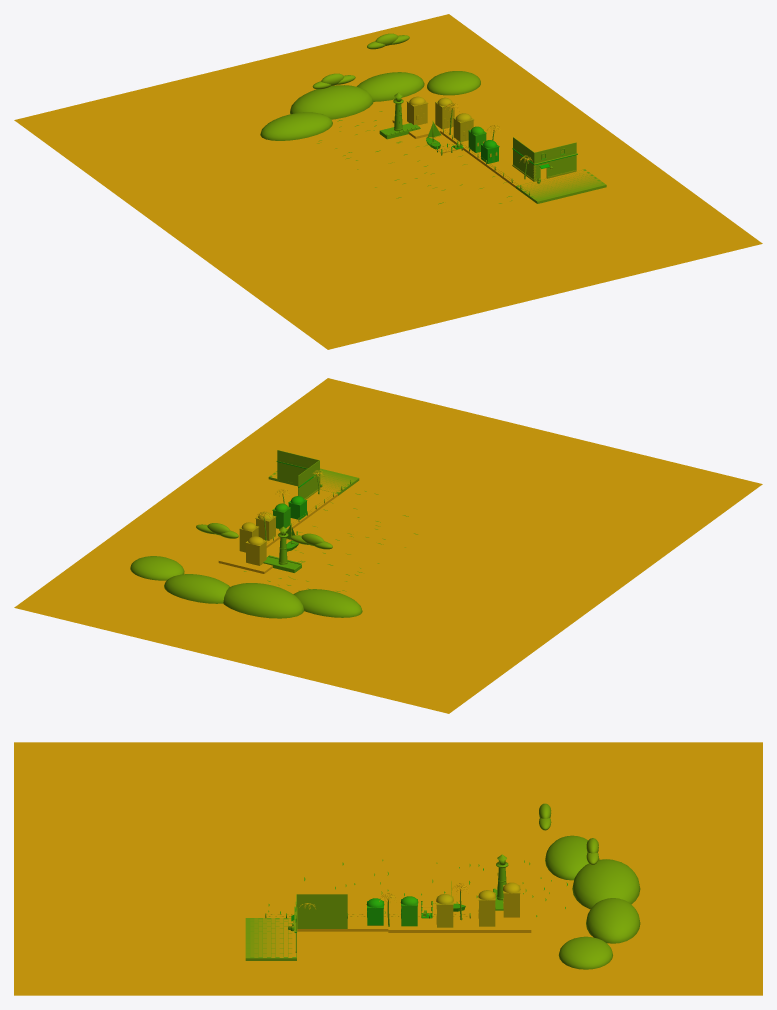
File: workshop.glb
3 views of the same model, one above another, from view 1: azimuth 30°, elevation 25°; view 2: azimuth 150°, elevation 25°; view 3: azimuth 270°, elevation 25° (orthographic). The views are drawn at different scales.
Visible parts, largest first — view 1: plain_distance, plain, plain_landmarks, outlined; view 2: plain_distance, plain, plain_landmarks, outlined; view 3: plain_distance, plain, plain_landmarks, outlined.
Boxes of the visible parts, box(x1,y1,x2,y2) form: plain_distance: box(14, 14, 762, 349); plain: box(317, 103, 606, 204); plain_landmarks: box(312, 33, 473, 141); outlined: box(426, 109, 577, 195); plain_distance: box(14, 378, 762, 713); plain: box(243, 450, 417, 591); plain_landmarks: box(196, 512, 332, 572); outlined: box(264, 461, 350, 551); plain_distance: box(14, 742, 762, 995); plain: box(245, 859, 567, 960); plain_landmarks: box(436, 803, 598, 927); outlined: box(265, 881, 470, 932).
Bounding box in the file's own units: 88 × 15.5 × 110.
